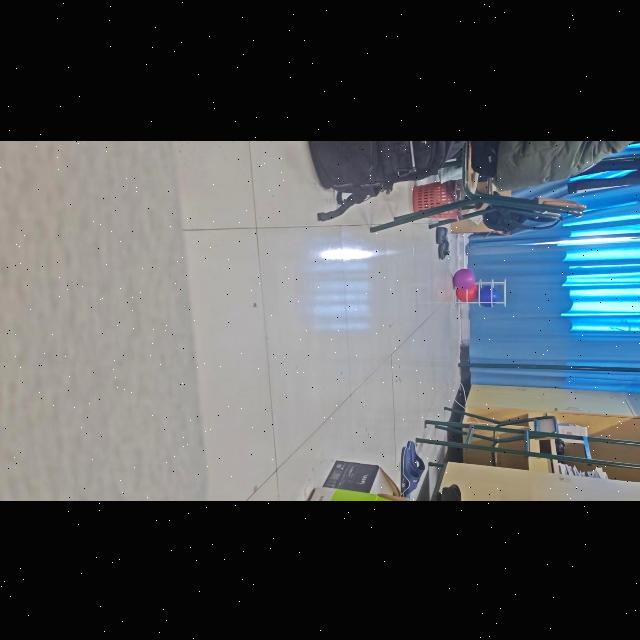B: (478, 282, 499, 306)
P: (452, 270, 478, 290)
R: (455, 284, 477, 296)
S: (456, 279, 508, 305)
